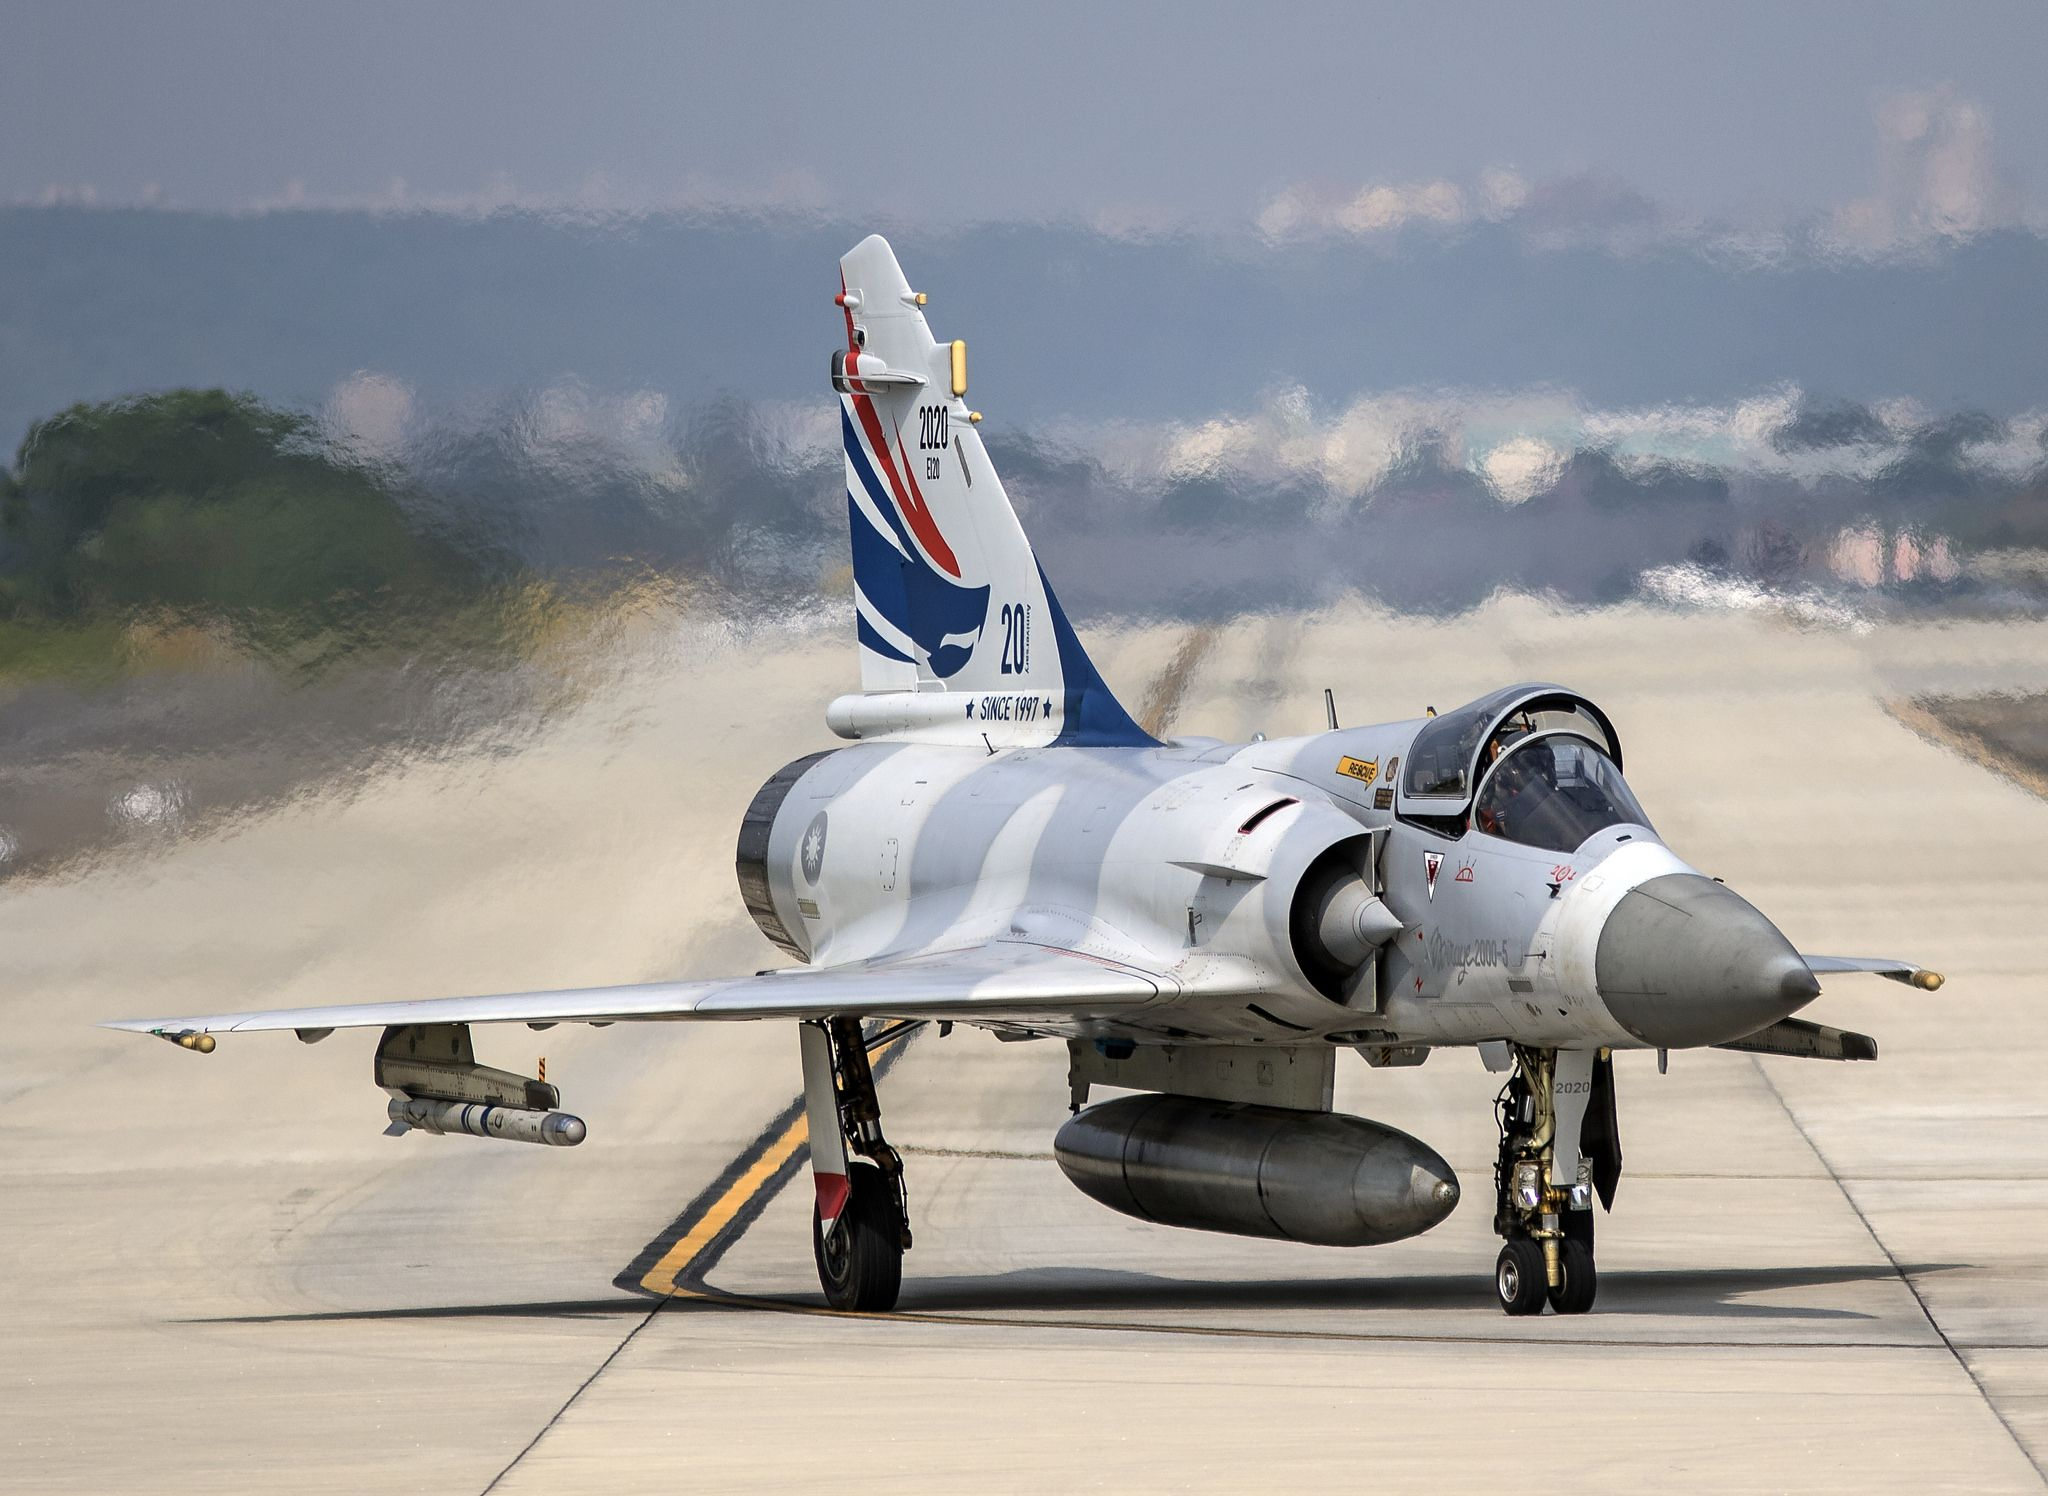Mirage2000: (91, 234, 1945, 1315)
